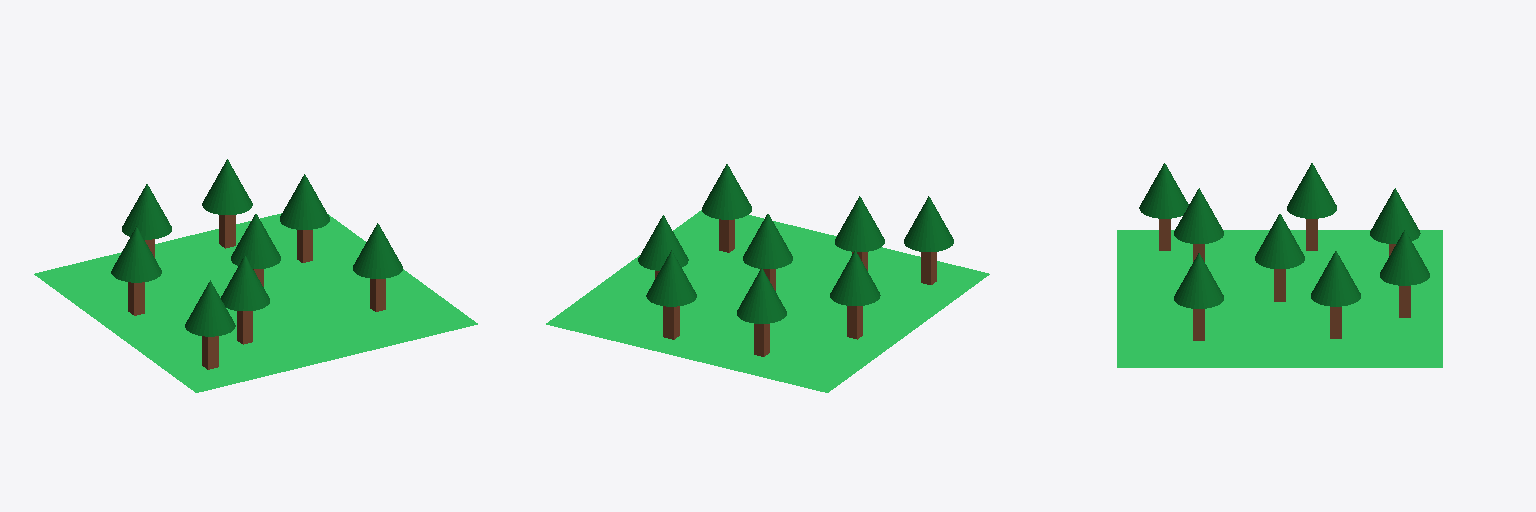
3 views of the same model, side by side, from view 1: azimuth 30°, elevation 25°; view 2: azimuth 150°, elevation 25°; view 3: azimuth 270°, elevation 25° (orthographic).
Visible parts, largest first — view 1: Plane; view 2: Plane; view 3: Plane.
Boxes of the visible parts, <box> form: Plane: <box>34,159,477,392</box>; Plane: <box>546,164,989,392</box>; Plane: <box>1117,163,1442,367</box>.
Bounding box in the file's own units: 18.77 × 5.51 × 18.77.
1 materials, 1 textured.